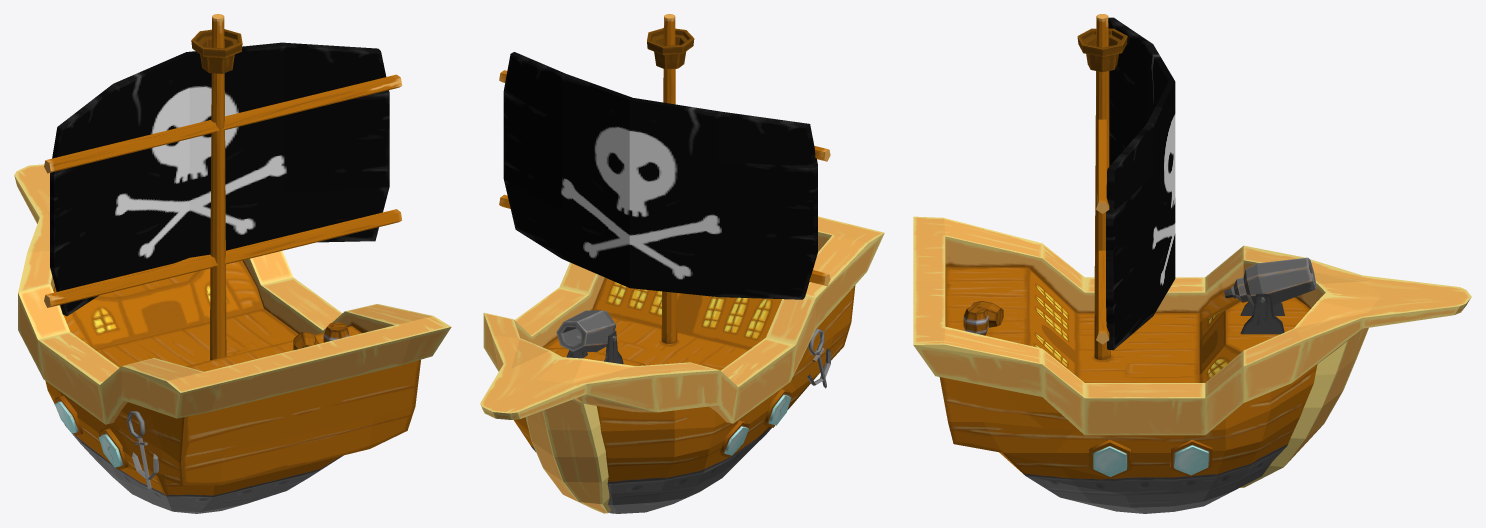
Rendered from pirate_ship.glb.
The picture shows the model from 3 angles, left to right: view 1: azimuth 30°, elevation 25°; view 2: azimuth 150°, elevation 25°; view 3: azimuth 270°, elevation 25°; orthographic projection. The views are drawn at different scales.
Parts seen in each view (by area): view 1: Plane003, Box001, Box002, Cylinder003, Cylinder004, Cylinder001, Cylinder002; view 2: Plane003, Box002, Box001, Box003, Cylinder015, Cylinder001, Cylinder002; view 3: Box001, Box002, Plane003, Box003, Cylinder015, Cylinder001, Cylinder002, Cylinder003, Plane005, Cylinder004, Cylinder020, Cylinder021 (+1 smaller).
Part boxes in pixels (x1,y1,x2,y2): Plane003: [50, 42, 389, 316]; Box001: [45, 255, 420, 513]; Box002: [14, 164, 451, 424]; Cylinder003: [44, 74, 402, 173]; Cylinder004: [44, 209, 401, 307]; Cylinder001: [210, 14, 226, 360]; Cylinder002: [191, 29, 242, 73]; Plane003: [503, 52, 817, 299]; Box002: [480, 216, 884, 423]; Box001: [514, 278, 855, 513]; Box003: [525, 399, 610, 513]; Cylinder015: [556, 310, 615, 351]; Cylinder001: [661, 14, 677, 343]; Cylinder002: [647, 28, 694, 69]; Box001: [939, 267, 1317, 513]; Box002: [913, 216, 1471, 435]; Plane003: [1106, 17, 1175, 350]; Box003: [1240, 327, 1368, 487]; Cylinder015: [1224, 257, 1316, 305]; Cylinder001: [1094, 14, 1110, 360]; Cylinder002: [1077, 28, 1127, 72]; Cylinder003: [1096, 71, 1109, 213]; Plane005: [1240, 293, 1284, 334]; Cylinder004: [1096, 250, 1109, 344]; Cylinder020: [1093, 446, 1126, 476]; Cylinder021: [1174, 445, 1208, 475].
Size of the model in its own units: 0.907 by 1.23 by 1.29.
1 material, 1 textured.
